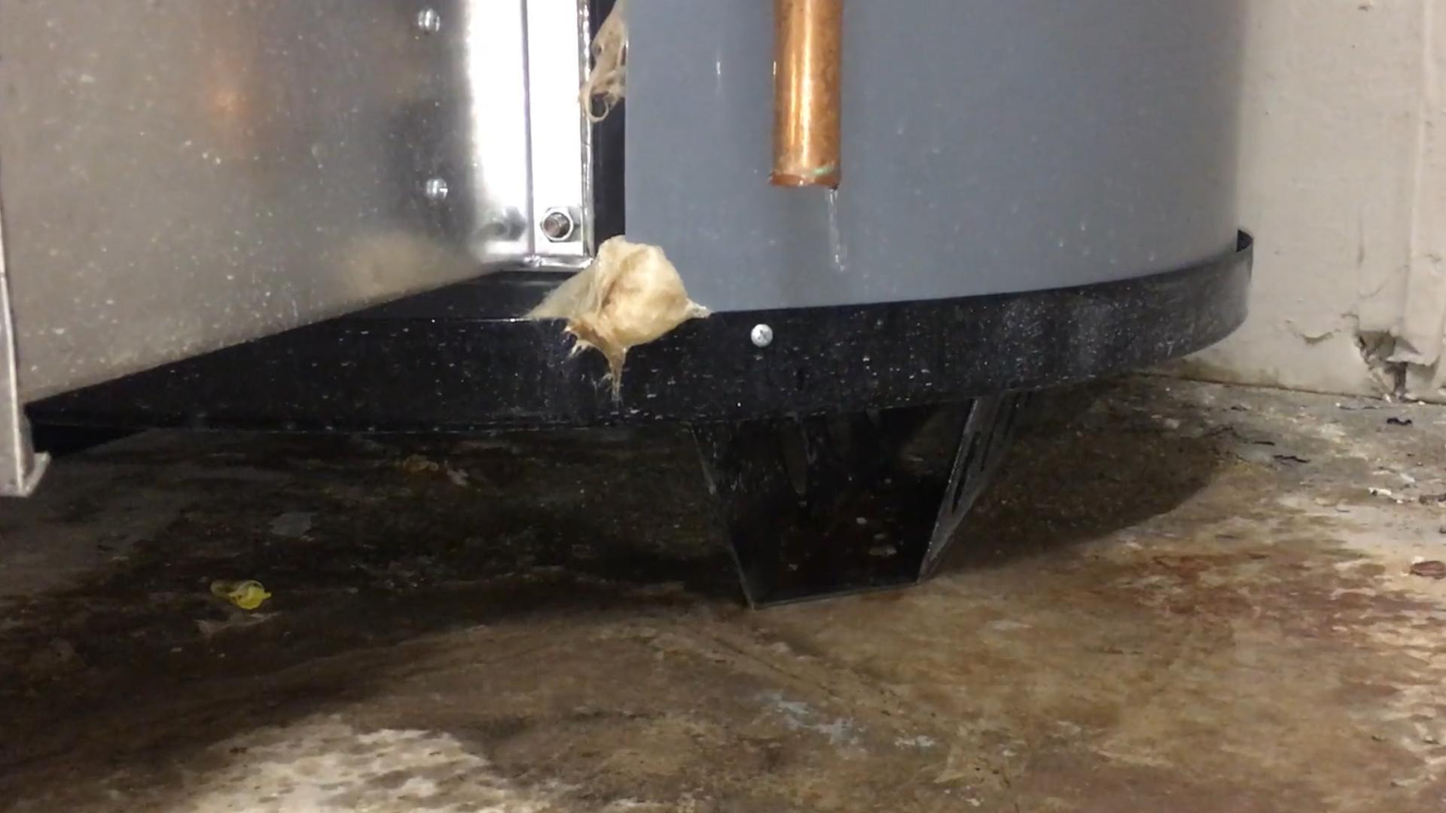water accumulation: (2, 353, 1446, 813)
